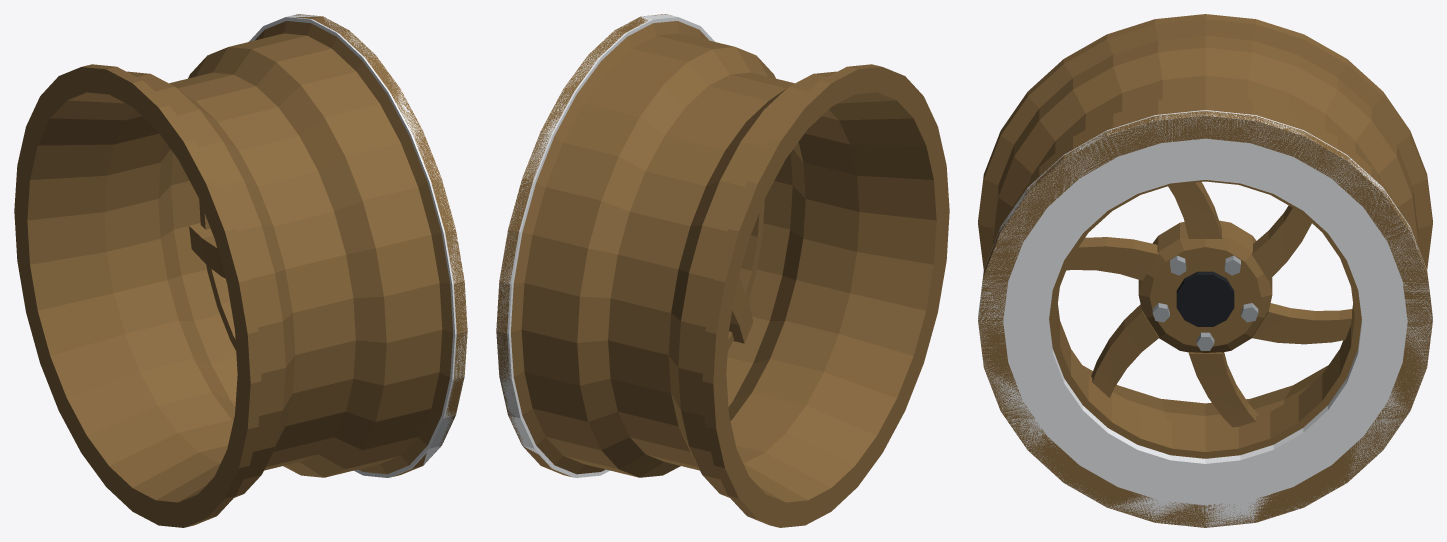
Rendered from rim_driftdish_18.glb.
3 renders of one model, left to right at view 1: azimuth 30°, elevation 25°; view 2: azimuth 150°, elevation 25°; view 3: azimuth 270°, elevation 25°, orthographic. The views are drawn at different scales.
Visible parts, largest first — view 1: model; view 2: model; view 3: model.
Part boxes in pixels (box(x1,y1,x2,y2)): model: box(14, 14, 467, 527); model: box(496, 14, 949, 527); model: box(978, 14, 1432, 527).
Bounding box in the file's own units: 0.2593 × 0.4892 × 0.4892.
Materials: 4 (1 with a texture image).
